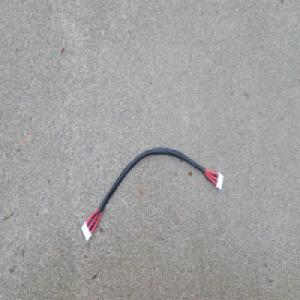Wire: (79, 146, 224, 243)
